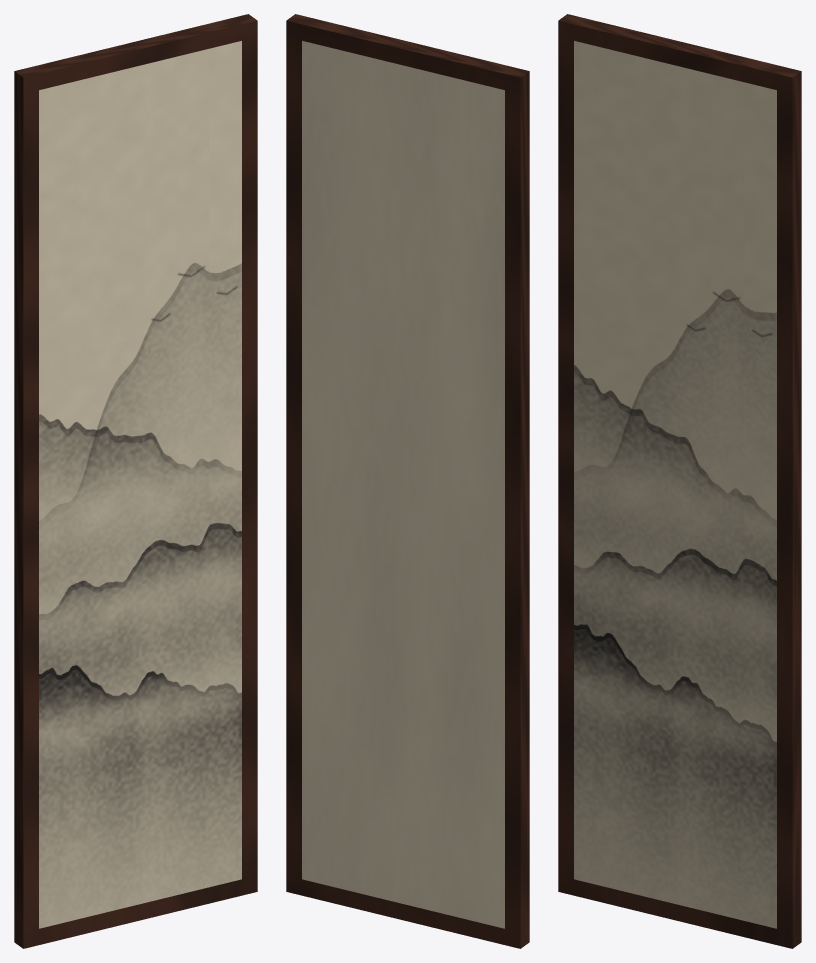
Rendered from z3_biombo_panel_4.obj.
3 views of the same model, side by side, from view 1: azimuth 30°, elevation 25°; view 2: azimuth 150°, elevation 25°; view 3: azimuth 330°, elevation 25° (orthographic).
Parts seen in each view (by area): view 1: Cube; view 2: Cube; view 3: Cube.
Boxes of the visible parts, x1,y1,x2,y2 form: Cube: (14, 14, 257, 948); Cube: (286, 14, 529, 948); Cube: (558, 14, 801, 948).
Size of the model in its own units: 0.45 by 1.6 by 0.03.
Materials: 3 (3 with a texture image).
